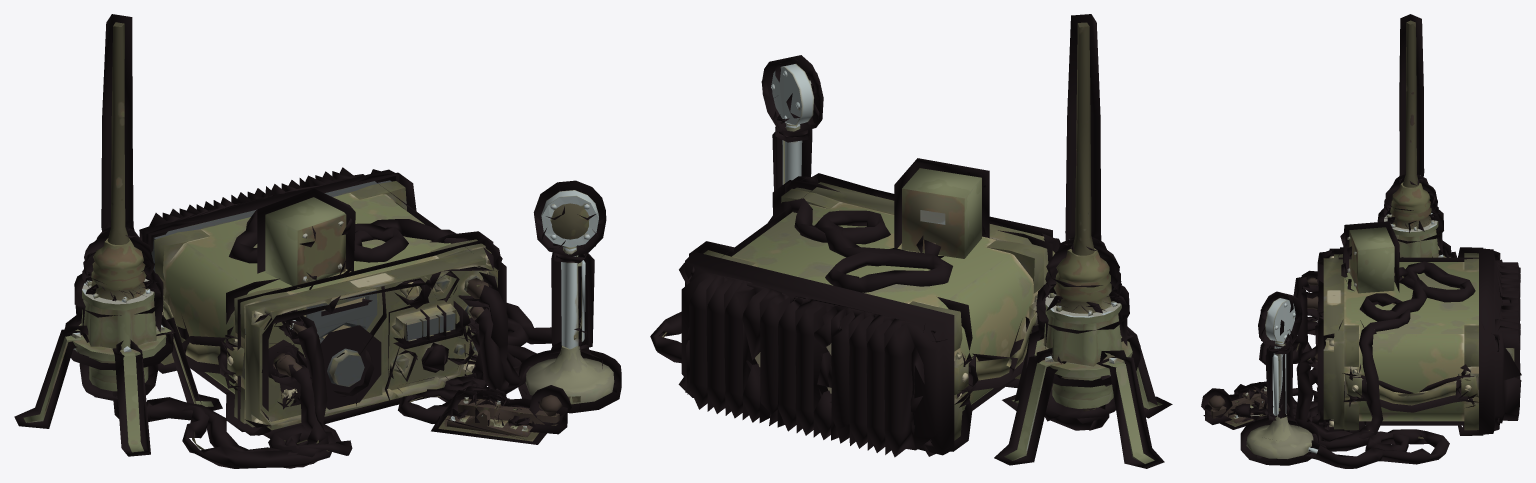
The model's file is SM_Int_Radio.fbx.
3 renders of one model, left to right at view 1: azimuth 30°, elevation 25°; view 2: azimuth 150°, elevation 25°; view 3: azimuth 270°, elevation 25°, orthographic. The views are drawn at different scales.
Parts seen in each view (by area): view 1: SM_Int_Radio; view 2: SM_Int_Radio; view 3: SM_Int_Radio.
Part boxes in pixels (x1,y1,x2,y2): SM_Int_Radio: (14,14,621,468); SM_Int_Radio: (650,14,1172,468); SM_Int_Radio: (1201,14,1521,468).
Size of what is drawn, in the model's own units: 0.4761 by 0.3628 by 0.3485.
